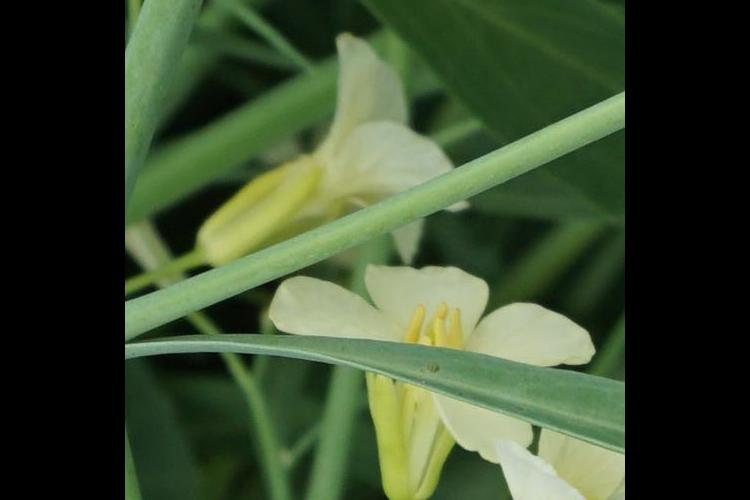white: (271, 266, 573, 500), (193, 68, 486, 279), (428, 464, 624, 500)
